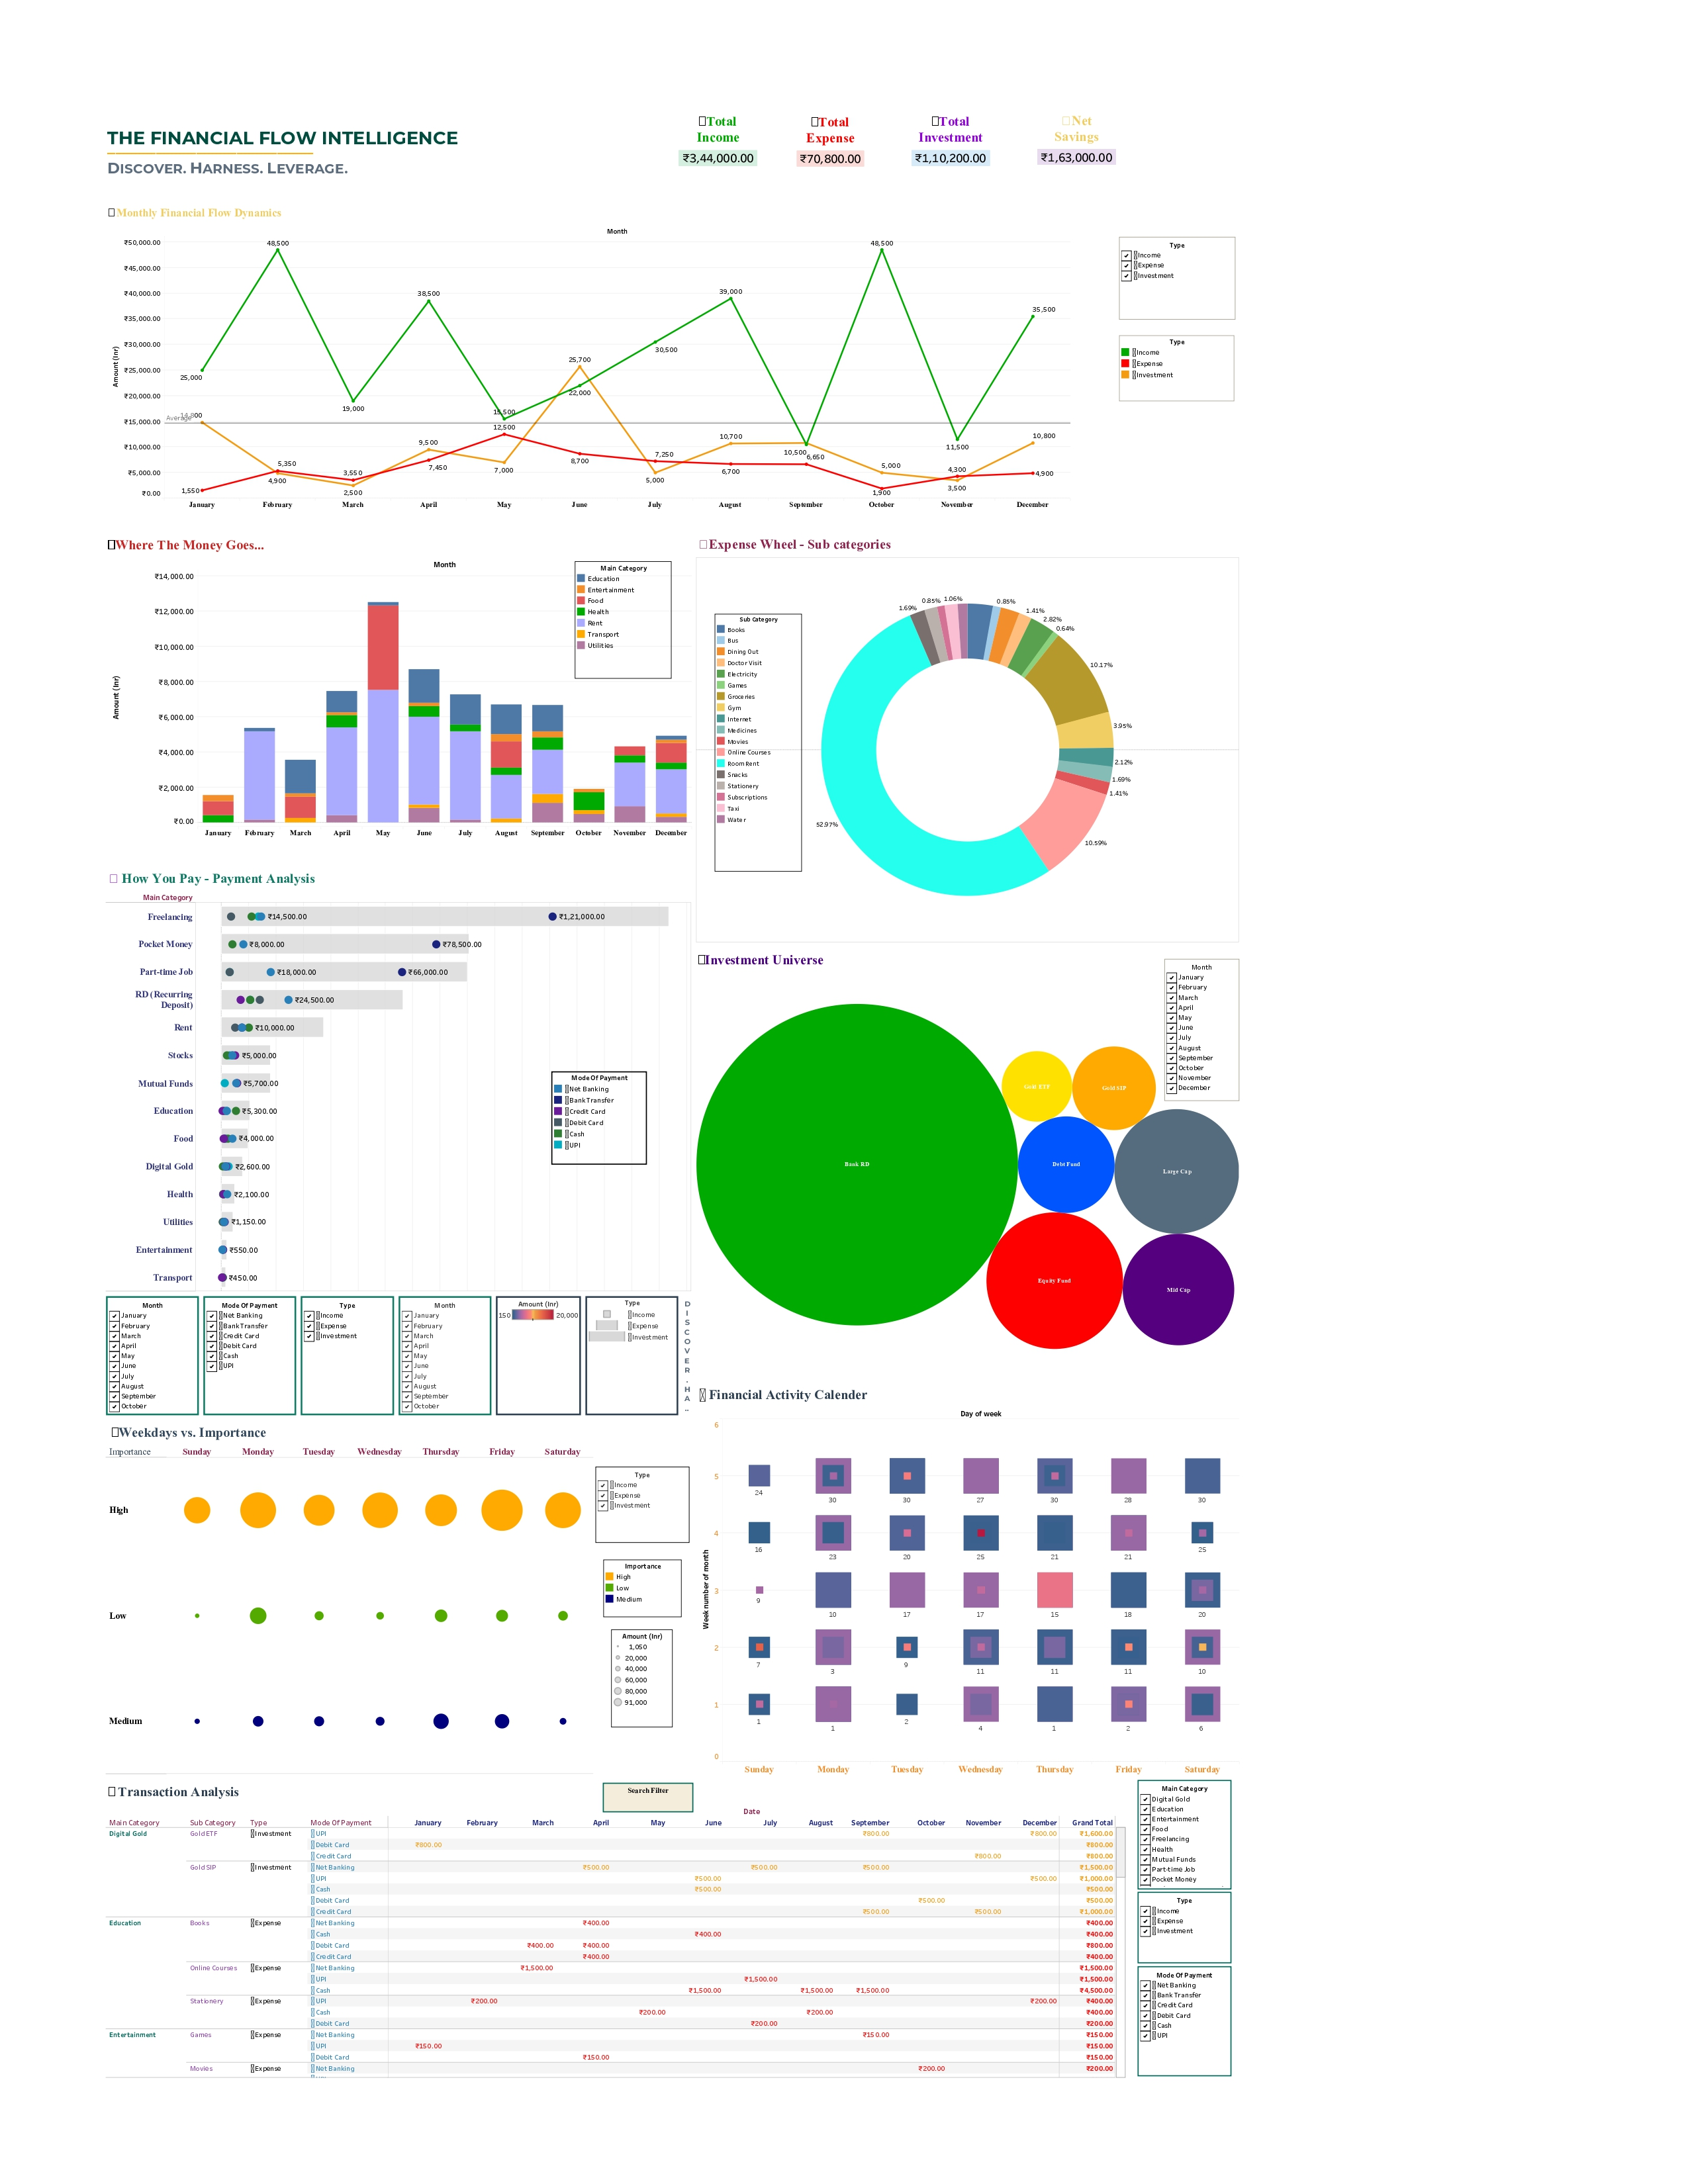

Layout of this report page (visuals, bound fields, positions):
{"tool":"tableau","page":{"name":"THE FINANCIAL FLOW INTELLIGENCE DASHBOARD","canvas":[2050,3550],"ordinal":1},"visuals":[{"type":"text","box":[8,8,1017,170.9]},{"type":"worksheet","title":"Total Income","mark":"Automatic","box":[1026,8,210,169]},{"type":"worksheet","title":"Total Investment","mark":"Automatic","box":[1442,8,225,169]},{"type":"worksheet","title":"Net Savings","mark":"Automatic","box":[1667,8,220,167]},{"type":"worksheet","title":"Total Expense","mark":"Automatic","box":[1237,9,201,165]},{"type":"worksheet","title":" Monthly Financial Flow Tracker","mark":"Line","rows":["AMOUNT (INR)"],"cols":["MONTH"],"box":[8,178.8,2034,592.9]},{"type":"filter","title":" Monthly Financial Flow Tracker","param":"[federated.1f38bc00szzkx213qb7wn1qolr6t].[none:TYPE:nk]","box":[1822.7,246.1,208.5,147.9]},{"type":"legend","title":" Monthly Financial Flow Tracker","param":"[federated.1f38bc00szzkx213qb7wn1qolr6t].[none:TYPE:nk]","box":[1822.7,422.4,206.2,117.1]},{"type":"worksheet","title":"Monthly Expences Breakdown","mark":"Automatic","rows":["AMOUNT (INR)"],"cols":["MONTH"],"box":[8,771.8,1055,596.9]},{"type":"worksheet","title":"Radial Donut - Sub category","mark":"Pie","rows":["Calculation_1092404411994152960","Calculation_1092404411994152960"],"box":[1063,771.8,979,740]},{"type":"legend","title":"Monthly Expences Breakdown","param":"[federated.1f38bc00szzkx213qb7wn1qolr6t].[none:MAIN CATEGORY:nk]","box":[850,826,173,210]},{"type":"legend","title":"Radial Donut - Sub category","param":"[federated.1f38bc00szzkx213qb7wn1qolr6t].[none:SUB CATEGORY:nk]","box":[1100,920,156,461]},{"type":"worksheet","title":"Payment Analysis","mark":"Automatic","rows":["MAIN CATEGORY"],"cols":["AMOUNT (INR)","AMOUNT (INR)"],"box":[8,1368.6,1055,767.2]},{"type":"worksheet","title":"Investment Universe","mark":"Circle","box":[1063,1511.7,979,780]},{"type":"filter","title":"Investment Universe","param":"[federated.1f38bc00szzkx213qb7wn1qolr6t].[none:MONTH:nk]","box":[1904,1537,134,254]},{"type":"legend","title":"Payment Analysis","param":"[federated.1f38bc00szzkx213qb7wn1qolr6t].[none:MODE OF PAYMENT:nk]","box":[808,1738,171,167]},{"type":"filter","title":"Payment Analysis","param":"[federated.1f38bc00szzkx213qb7wn1qolr6t].[none:MONTH:nk]","box":[8,2135.8,173.4,221]},{"type":"filter","title":"Payment Analysis","param":"[federated.1f38bc00szzkx213qb7wn1qolr6t].[none:MODE OF PAYMENT:nk]","box":[181.4,2135.8,173.4,221]},{"type":"filter","title":"Payment Analysis","param":"[federated.1f38bc00szzkx213qb7wn1qolr6t].[none:TYPE:nk]","box":[354.8,2135.8,173.4,221]},{"type":"filter","title":" Calender Heat Map","param":"[federated.1f38bc00szzkx213qb7wn1qolr6t].[none:MONTH:nk]","box":[528.2,2135.8,173.4,221]},{"type":"legend","title":" Calender Heat Map","param":"[federated.1f38bc00szzkx213qb7wn1qolr6t].[sum:AMOUNT (INR):qk]","box":[701.6,2135.8,160,221]},{"type":"legend","title":" Calender Heat Map","param":"[federated.1f38bc00szzkx213qb7wn1qolr6t].[none:TYPE:nk]","box":[861.6,2135.8,173.4,221]},{"type":"text","box":[1034.9,2135.8,28.1,221]},{"type":"worksheet","title":" Calender Heat Map","mark":"Square","rows":["Calculation_1125899935025754114"],"cols":["Calculation_1125899935025348609"],"box":[1063,2291.8,979,707]},{"type":"worksheet","title":"Spending Behaviour Matrix - Weekdays vs. Importance","mark":"Circle","rows":["IMPORTANCE"],"cols":["WEEKDAYS"],"box":[8,2356.7,1055,642.1]},{"type":"filter","title":"Spending Behaviour Matrix - Weekdays vs. Importance","param":"[federated.1f38bc00szzkx213qb7wn1qolr6t].[none:TYPE:nk]","box":[887,2445,168,136]},{"type":"legend","title":"Spending Behaviour Matrix - Weekdays vs. Importance","param":"[federated.1f38bc00szzkx213qb7wn1qolr6t].[none:IMPORTANCE:nk]","box":[901,2611,140,103]},{"type":"legend","title":"Spending Behaviour Matrix - Weekdays vs. Importance","param":"[federated.1f38bc00szzkx213qb7wn1qolr6t].[sum:AMOUNT (INR):qk]","box":[915,2736,110,175]},{"type":"worksheet","title":"Transaction Analysis","mark":"Text","rows":["MAIN CATEGORY","SUB CATEGORY","TYPE","MODE OF PAYMENT"],"cols":["DATE"],"box":[8,2998.8,1832,543.2]},{"type":"filter","title":"Transaction Analysis","param":"[federated.1f38bc00szzkx213qb7wn1qolr6t].[none:MAIN CATEGORY:nk]","box":[1856,3005,168,196]},{"type":"parameter","param":"[Parameters].[Parameter 1]","box":[900,3010,162,53]},{"type":"filter","title":"Transaction Analysis","param":"[federated.1f38bc00szzkx213qb7wn1qolr6t].[none:TYPE:nk]","box":[1856,3205,168,128]},{"type":"filter","title":"Transaction Analysis","param":"[federated.1f38bc00szzkx213qb7wn1qolr6t].[none:MODE OF PAYMENT:nk]","box":[1856,3338,168,197]}]}

Visuals, with their boxes on the page's 2050x3550 design canvas (x1, y1, x2, y2). These are canvas units, not pixel positions in the 1688x2184 screenshot, which may show the page scaled, cropped or inside an application window:
text: detection(8, 8, 1025, 179)
"Total Income" worksheet: detection(1026, 8, 1236, 177)
"Total Investment" worksheet: detection(1442, 8, 1667, 177)
"Net Savings" worksheet: detection(1667, 8, 1887, 175)
"Total Expense" worksheet: detection(1237, 9, 1438, 174)
" Monthly Financial Flow Tracker" worksheet (Line marks): detection(8, 179, 2042, 772)
" Monthly Financial Flow Tracker" filter: detection(1823, 246, 2031, 394)
" Monthly Financial Flow Tracker" legend: detection(1823, 422, 2029, 540)
"Monthly Expences Breakdown" worksheet: detection(8, 772, 1063, 1369)
"Radial Donut - Sub category" worksheet (Pie marks): detection(1063, 772, 2042, 1512)
"Monthly Expences Breakdown" legend: detection(850, 826, 1023, 1036)
"Radial Donut - Sub category" legend: detection(1100, 920, 1256, 1381)
"Payment Analysis" worksheet: detection(8, 1369, 1063, 2136)
"Investment Universe" worksheet (Circle marks): detection(1063, 1512, 2042, 2292)
"Investment Universe" filter: detection(1904, 1537, 2038, 1791)
"Payment Analysis" legend: detection(808, 1738, 979, 1905)
"Payment Analysis" filter: detection(8, 2136, 181, 2357)
"Payment Analysis" filter: detection(181, 2136, 355, 2357)
"Payment Analysis" filter: detection(355, 2136, 528, 2357)
" Calender Heat Map" filter: detection(528, 2136, 702, 2357)
" Calender Heat Map" legend: detection(702, 2136, 862, 2357)
" Calender Heat Map" legend: detection(862, 2136, 1035, 2357)
text: detection(1035, 2136, 1063, 2357)
" Calender Heat Map" worksheet (Square marks): detection(1063, 2292, 2042, 2999)
"Spending Behaviour Matrix - Weekdays vs. Importance" worksheet (Circle marks): detection(8, 2357, 1063, 2999)
"Spending Behaviour Matrix - Weekdays vs. Importance" filter: detection(887, 2445, 1055, 2581)
"Spending Behaviour Matrix - Weekdays vs. Importance" legend: detection(901, 2611, 1041, 2714)
"Spending Behaviour Matrix - Weekdays vs. Importance" legend: detection(915, 2736, 1025, 2911)
"Transaction Analysis" worksheet (Text marks): detection(8, 2999, 1840, 3542)
"Transaction Analysis" filter: detection(1856, 3005, 2024, 3201)
parameter: detection(900, 3010, 1062, 3063)
"Transaction Analysis" filter: detection(1856, 3205, 2024, 3333)
"Transaction Analysis" filter: detection(1856, 3338, 2024, 3535)
